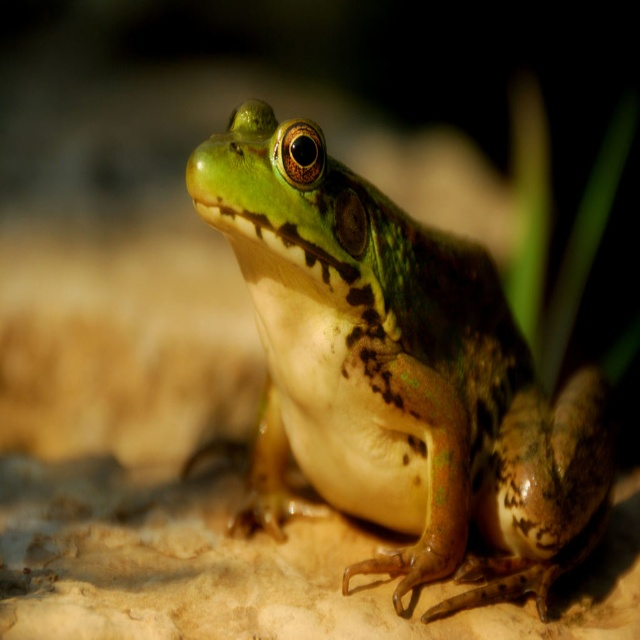Frog: (186, 99, 613, 624)
